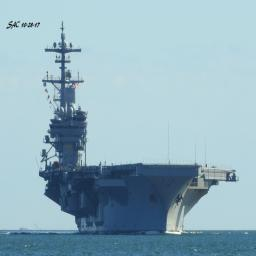Portanaves: (36, 21, 240, 241)
